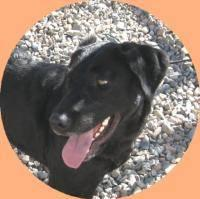dog: (0, 35, 168, 197)
